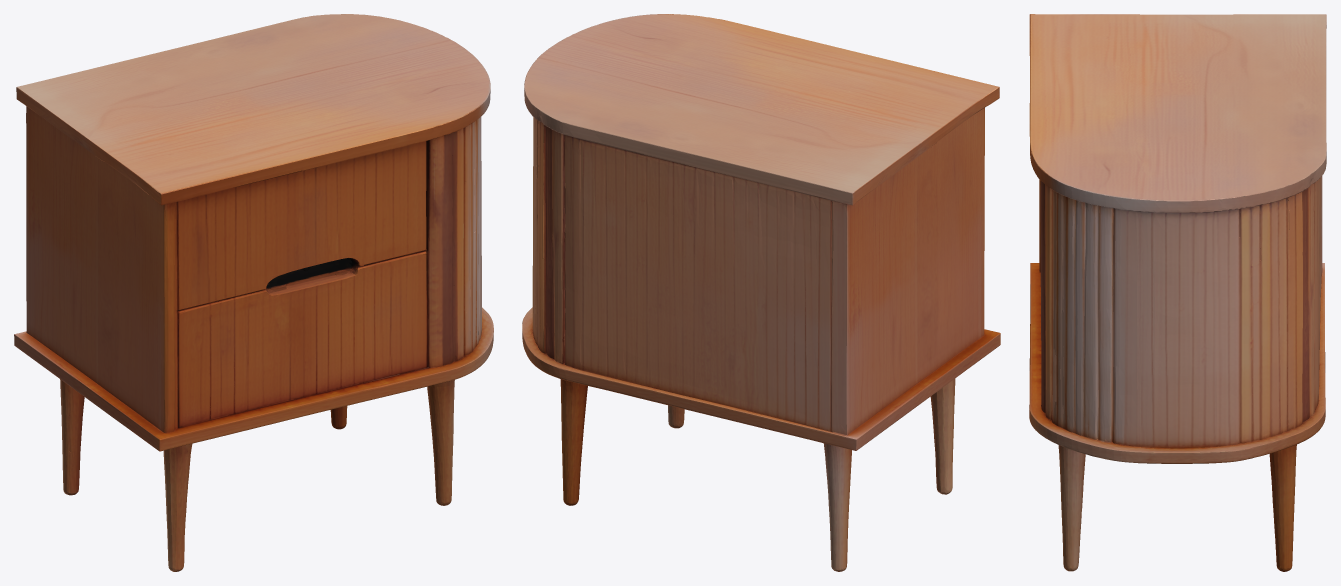
Rendered from BURO SANTORINI DERglb.glb.
3 views of the same model, side by side, from view 1: azimuth 30°, elevation 25°; view 2: azimuth 150°, elevation 25°; view 3: azimuth 270°, elevation 25° (orthographic).
Parts seen in each view (by area): view 1: world; view 2: world; view 3: world.
Boxes of the visible parts, x1,y1,x2,y2 form: world: (14, 14, 493, 571); world: (522, 14, 1000, 571); world: (1029, 14, 1326, 571).
Bounding box in the file's own units: 0.9959 × 1 × 0.6628.
1 material, 1 textured.
